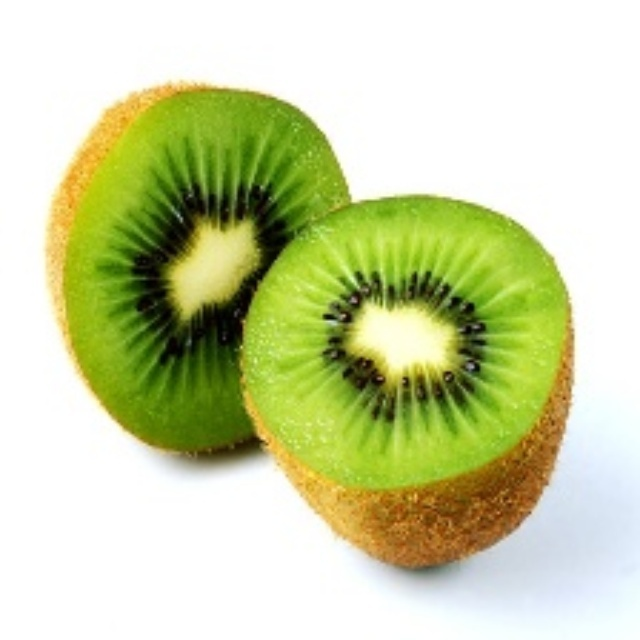kiwi: (242, 191, 567, 570), (43, 85, 356, 457)
